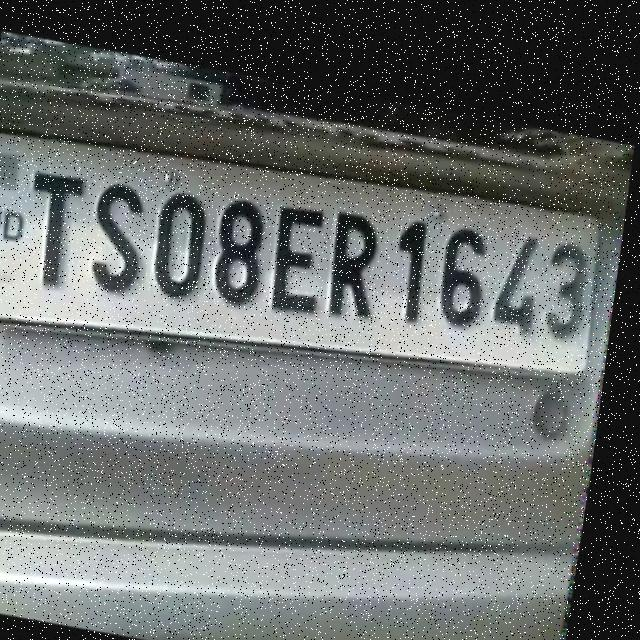license_plate: (0, 125, 607, 358)
